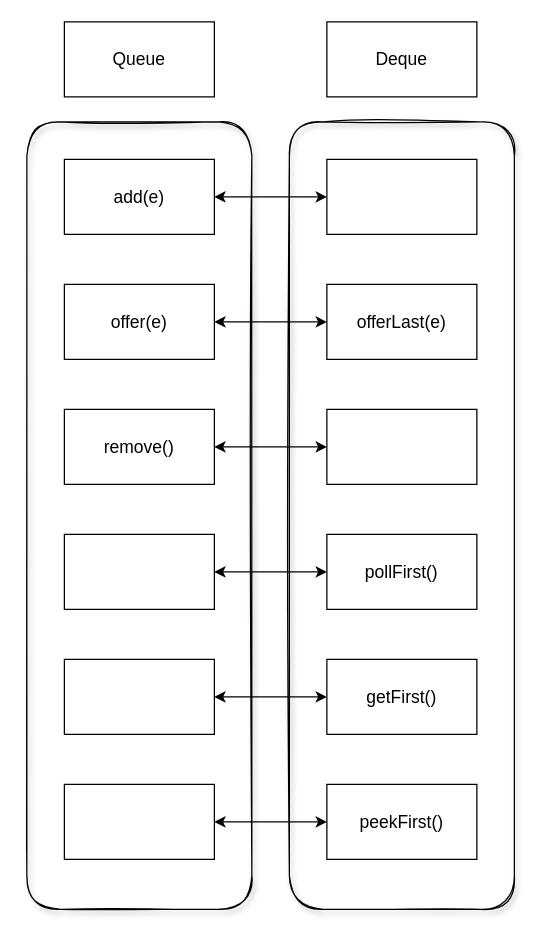
This 544x940 diagram has some shape labels left out. Here are the shapes that lost their labels. From the top down, the centre of each, then its label:
(401,196): addLast(e)
(401,446): removeFirst()
(138,571): poll()
(138,696): element()
(138,821): peek()
